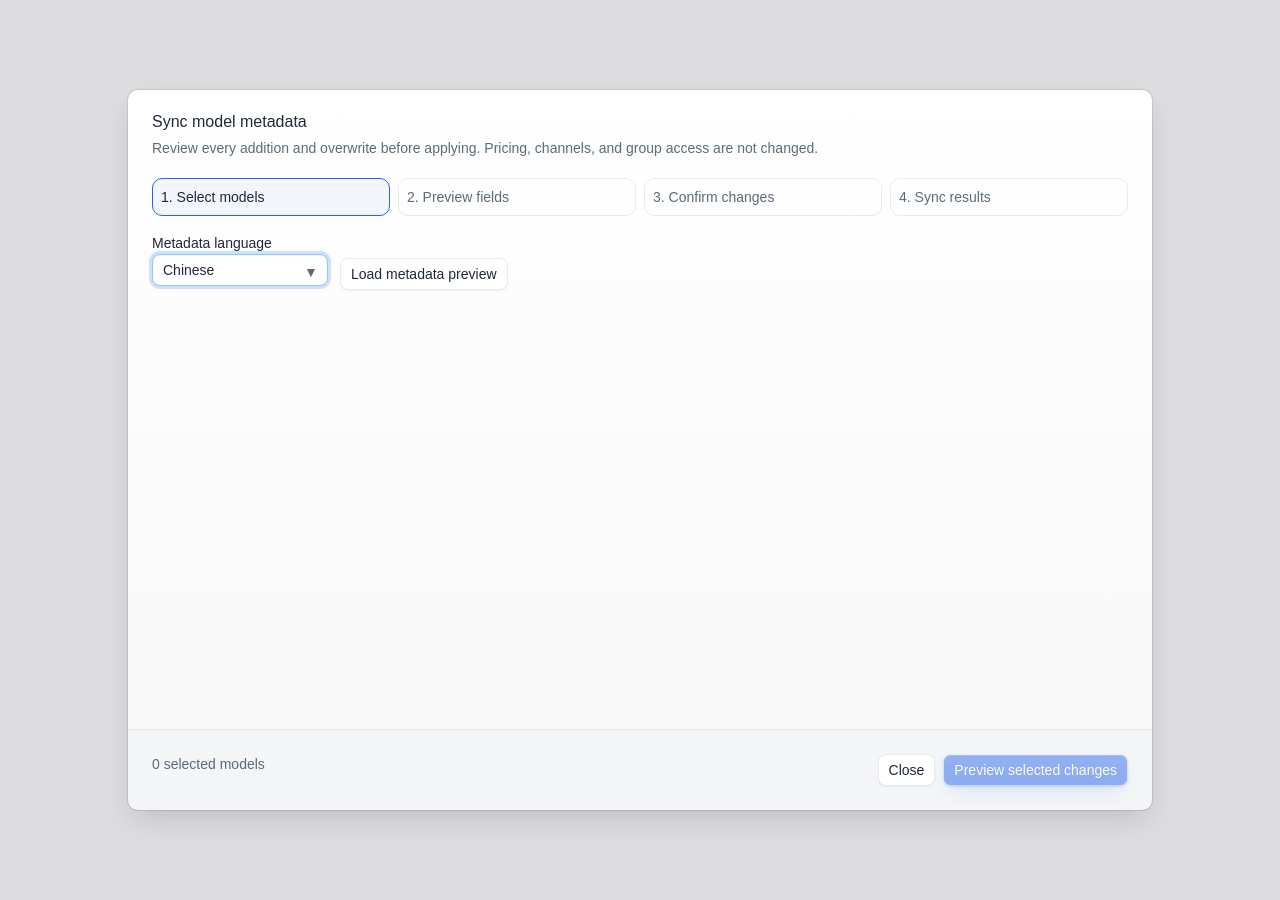
Scenario: metadata sync preview › keeps the write action unavailable when preview loading fails
The width and height of the screenshot is (1280, 900).
Step 1. Click the button "Load metadata preview" → [424, 274], box [340,258,508,290]
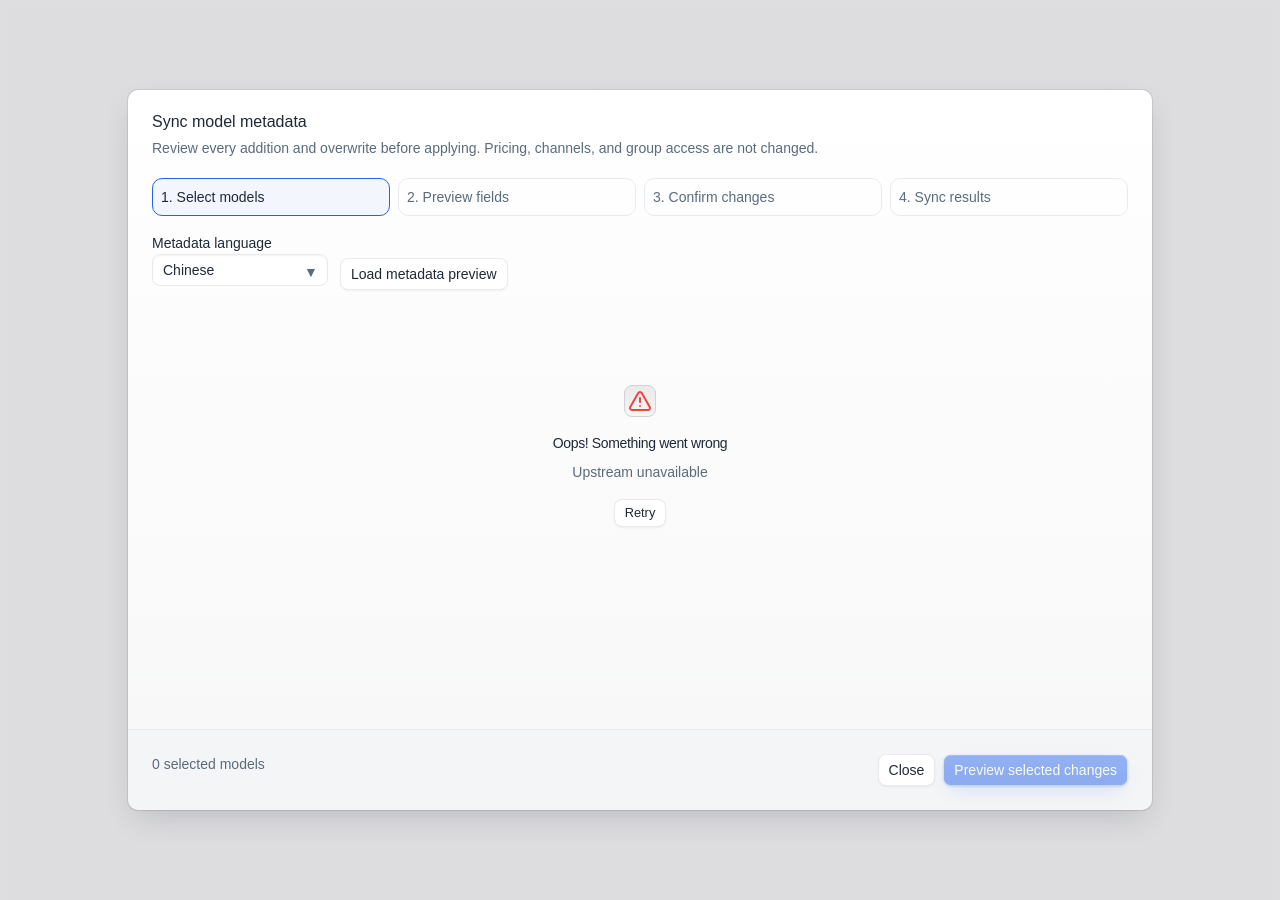
expect the button "Preview selected changes" is disabled: met, box [943,754,1128,786]
expect the text "Upstream unavailable" is shown: met, box [572,461,708,483]
